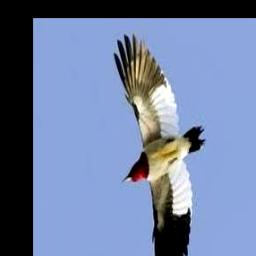Woodpecker: (115, 35, 206, 256)
